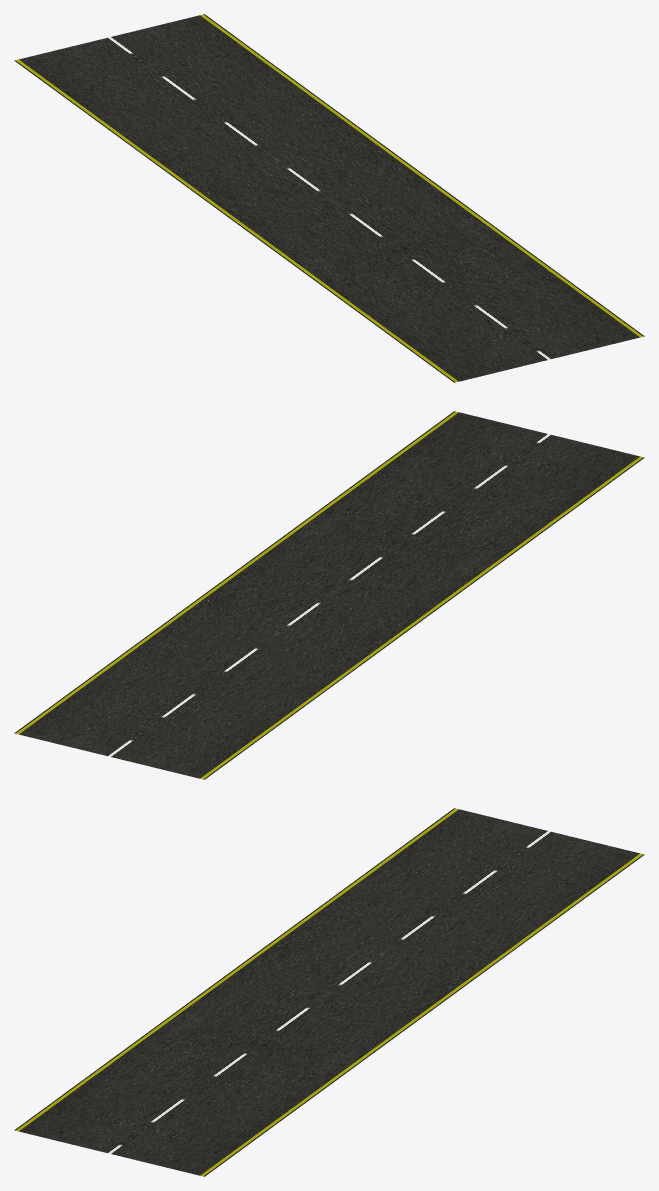
The model's file is Path_1.fbx.
3 renders of one model, top to bottom at view 1: azimuth 30°, elevation 25°; view 2: azimuth 150°, elevation 25°; view 3: azimuth 330°, elevation 25°, orthographic.
Parts seen in each view (by area): view 1: Plane.002; view 2: Plane.002; view 3: Plane.002.
Part boxes in pixels (bbox=[...]): Plane.002: bbox=[14, 14, 644, 382]; Plane.002: bbox=[14, 411, 644, 779]; Plane.002: bbox=[14, 808, 644, 1176].
Bounding box in the file's own units: 1000 × 0.000302 × 4000.
